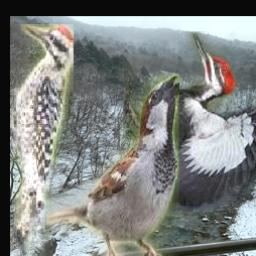Sparrow: (46, 74, 179, 256)
Woodpecker: (123, 32, 256, 211), (10, 25, 74, 256)
